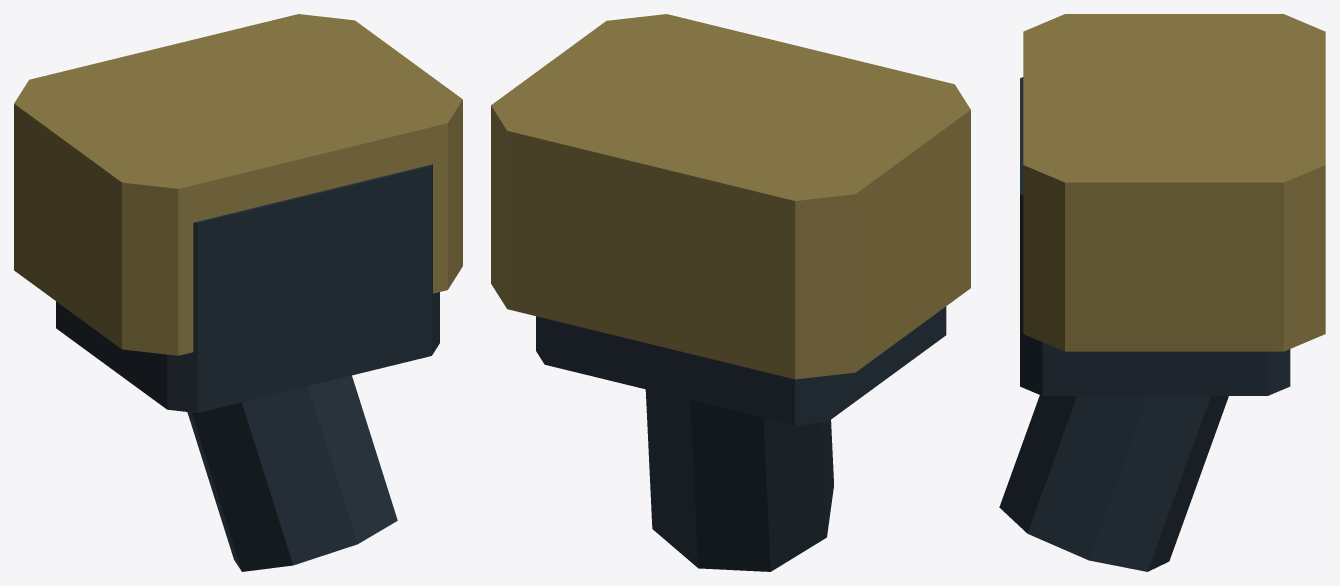
File: enemy_gunner_lod_upper_arm_r.obj
3 renders of one model, left to right at view 1: azimuth 30°, elevation 25°; view 2: azimuth 150°, elevation 25°; view 3: azimuth 270°, elevation 25°, orthographic. The views are drawn at different scales.
Bounding box in the file's own units: 0.62 × 0.7669 × 0.5071.
